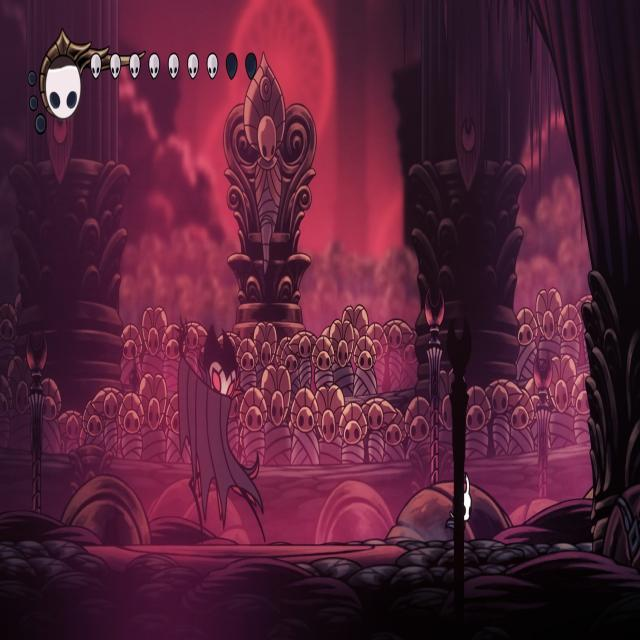Dash Uppercut: (174, 312, 268, 541)
Player: (445, 468, 479, 544)
